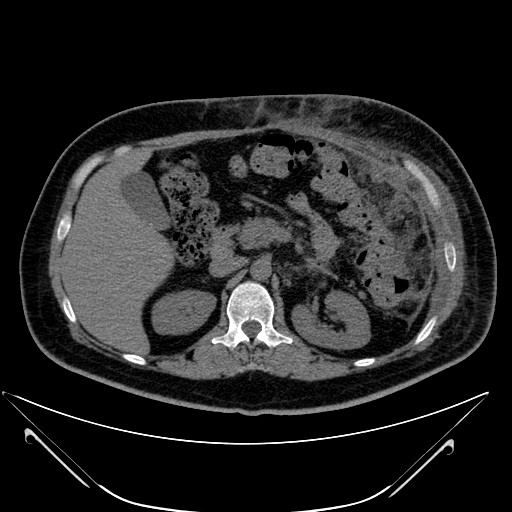vesicula: (116, 168, 176, 235)
